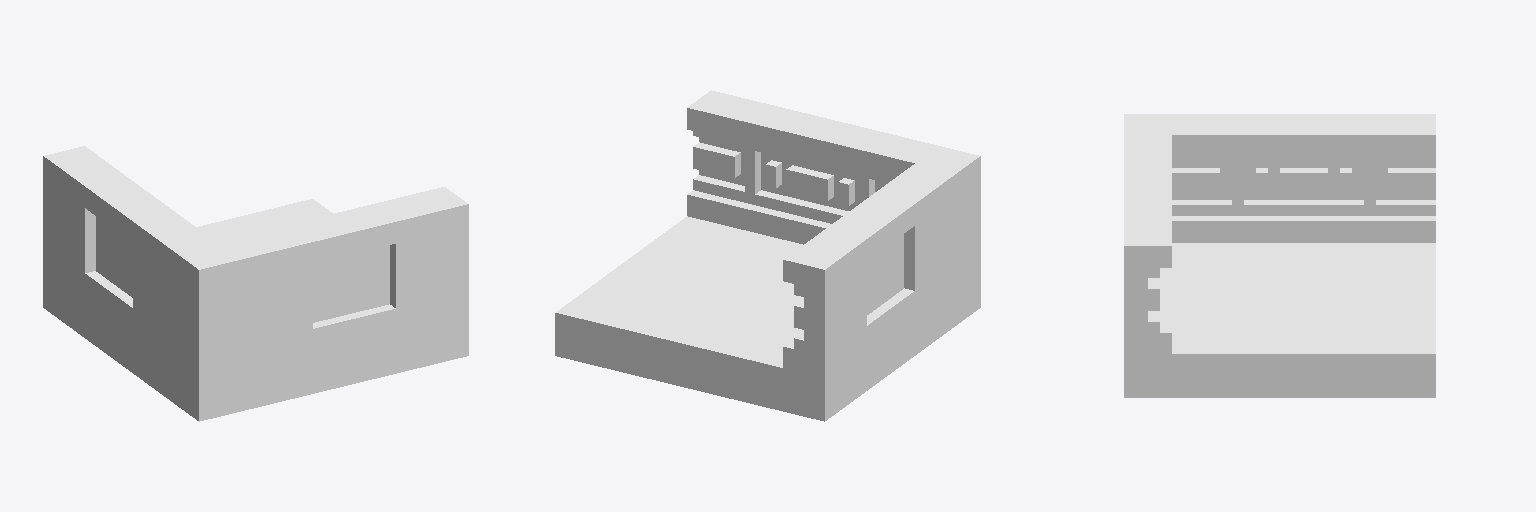
The model's file is Room_Default_C.obj.
3 renders of one model, left to right at view 1: azimuth 30°, elevation 25°; view 2: azimuth 150°, elevation 25°; view 3: azimuth 270°, elevation 25°, orthographic.
Visible parts, largest first — view 1: Room_Default_C; view 2: Room_Default_C; view 3: Room_Default_C.
Boxes of the visible parts, x1=… form: Room_Default_C: x1=43, y1=146, x2=468, y2=421; Room_Default_C: x1=555, y1=90, x2=980, y2=421; Room_Default_C: x1=1124, y1=114, x2=1435, y2=397.
Size of the model in its own units: 26 by 14 by 26.